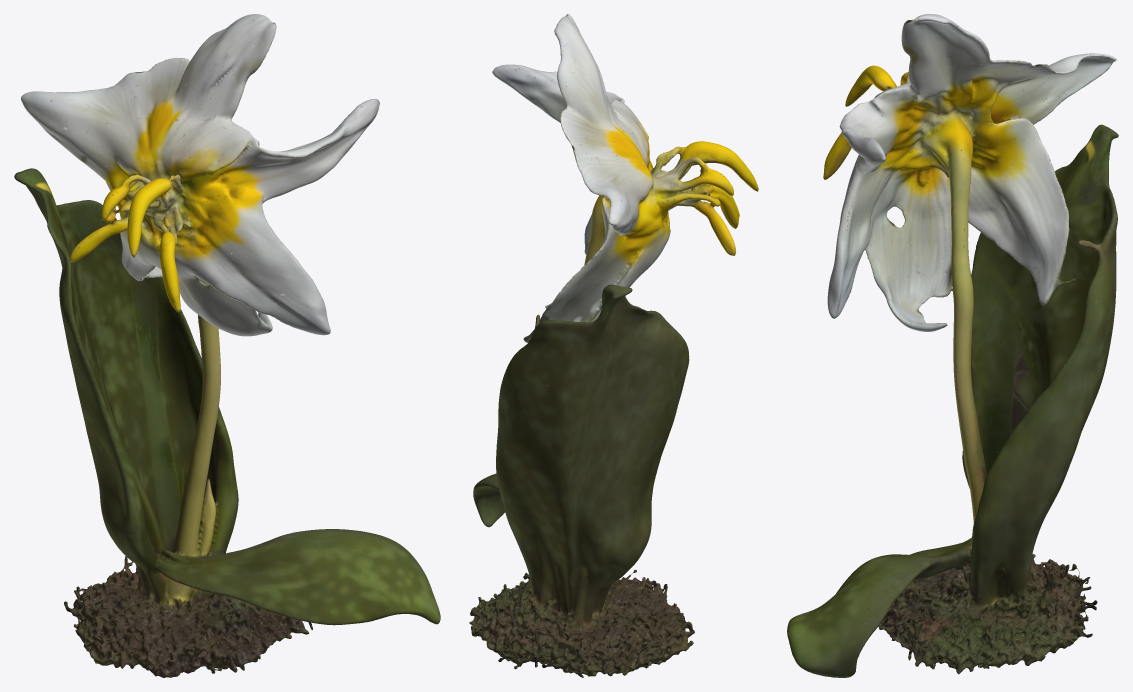
Rendered from 2цветокtled .glb.
3 renders of one model, left to right at view 1: azimuth 30°, elevation 25°; view 2: azimuth 150°, elevation 25°; view 3: azimuth 270°, elevation 25°, orthographic. The views are drawn at different scales.
Size of the model in its own units: 1.05 by 2 by 0.9464.
1 material, 1 textured.
